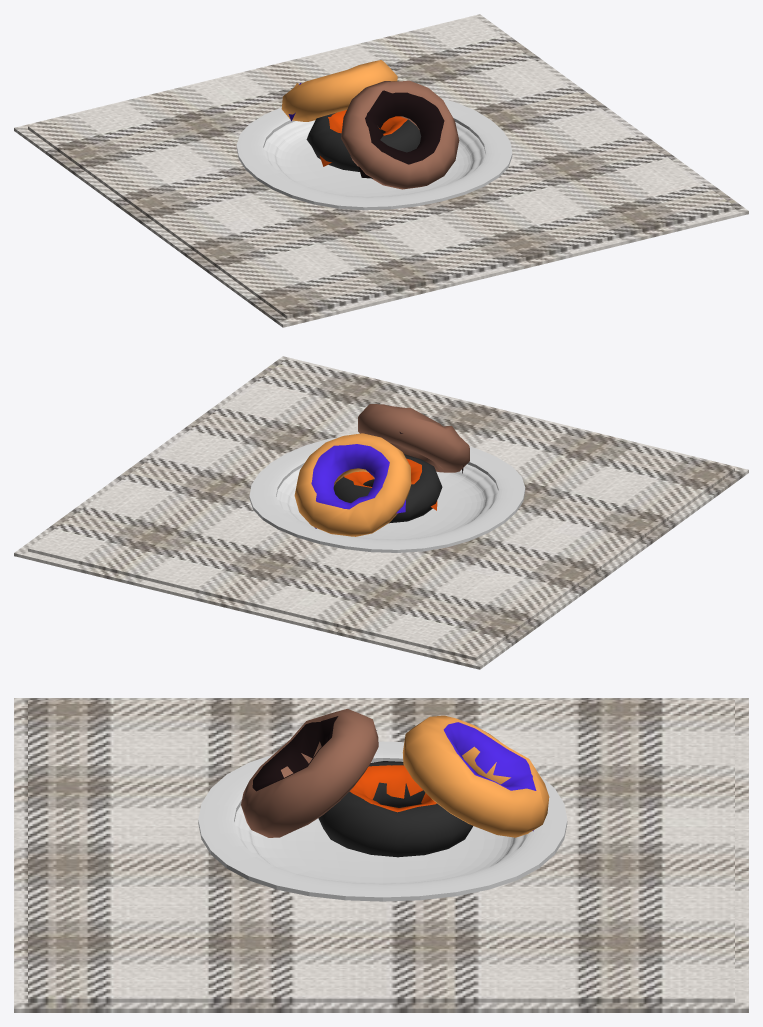
The model's file is Donut.glb.
3 views of the same model, one above another, from view 1: azimuth 30°, elevation 25°; view 2: azimuth 150°, elevation 25°; view 3: azimuth 270°, elevation 25° (orthographic). The views are drawn at different scales.
Parts seen in each view (by area): view 1: Plane.001, Plane, Torus.001, Torus.005, Torus.002, Torus.003, Torus.004; view 2: Plane.001, Plane, Torus.005, Torus.001, Torus.006, Torus.003, Torus.004; view 3: Plane.001, Plane, Torus.005, Torus.001, Torus.003, Torus.006, Torus.002, Torus.004.
Boxes of the visible parts, box(x1,y1,x2,y2) form: Plane.001: box(14, 14, 748, 327); Plane: box(236, 98, 512, 210); Torus.001: box(341, 80, 459, 189); Torus.005: box(281, 60, 397, 121); Torus.002: box(358, 90, 444, 178); Torus.003: box(306, 113, 421, 171); Torus.004: box(320, 110, 407, 166); Plane.001: box(14, 356, 748, 669); Plane: box(249, 437, 525, 552); Torus.005: box(294, 433, 411, 536); Torus.001: box(358, 404, 469, 472); Torus.006: box(311, 444, 405, 528); Torus.003: box(333, 454, 442, 523); Torus.004: box(344, 458, 437, 510); Plane.001: box(14, 698, 748, 1012); Plane: box(198, 741, 567, 901); Torus.005: box(402, 715, 549, 837); Torus.001: box(241, 709, 378, 837); Torus.003: box(318, 761, 472, 857); Torus.006: box(443, 722, 536, 831); Torus.002: box(252, 716, 376, 791); Torus.004: box(349, 765, 436, 812).
Bounding box in the file's own units: 7.55 × 1.54 × 7.55.
8 materials, 1 textured.
